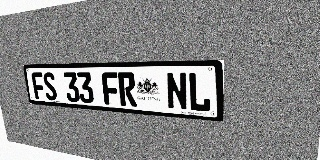3: (77, 72, 94, 104), (63, 72, 80, 102)
F: (101, 72, 120, 106), (31, 72, 46, 100)
L: (188, 72, 211, 112)
N: (166, 72, 188, 111)
R: (117, 72, 137, 107)
S: (42, 72, 58, 101)
